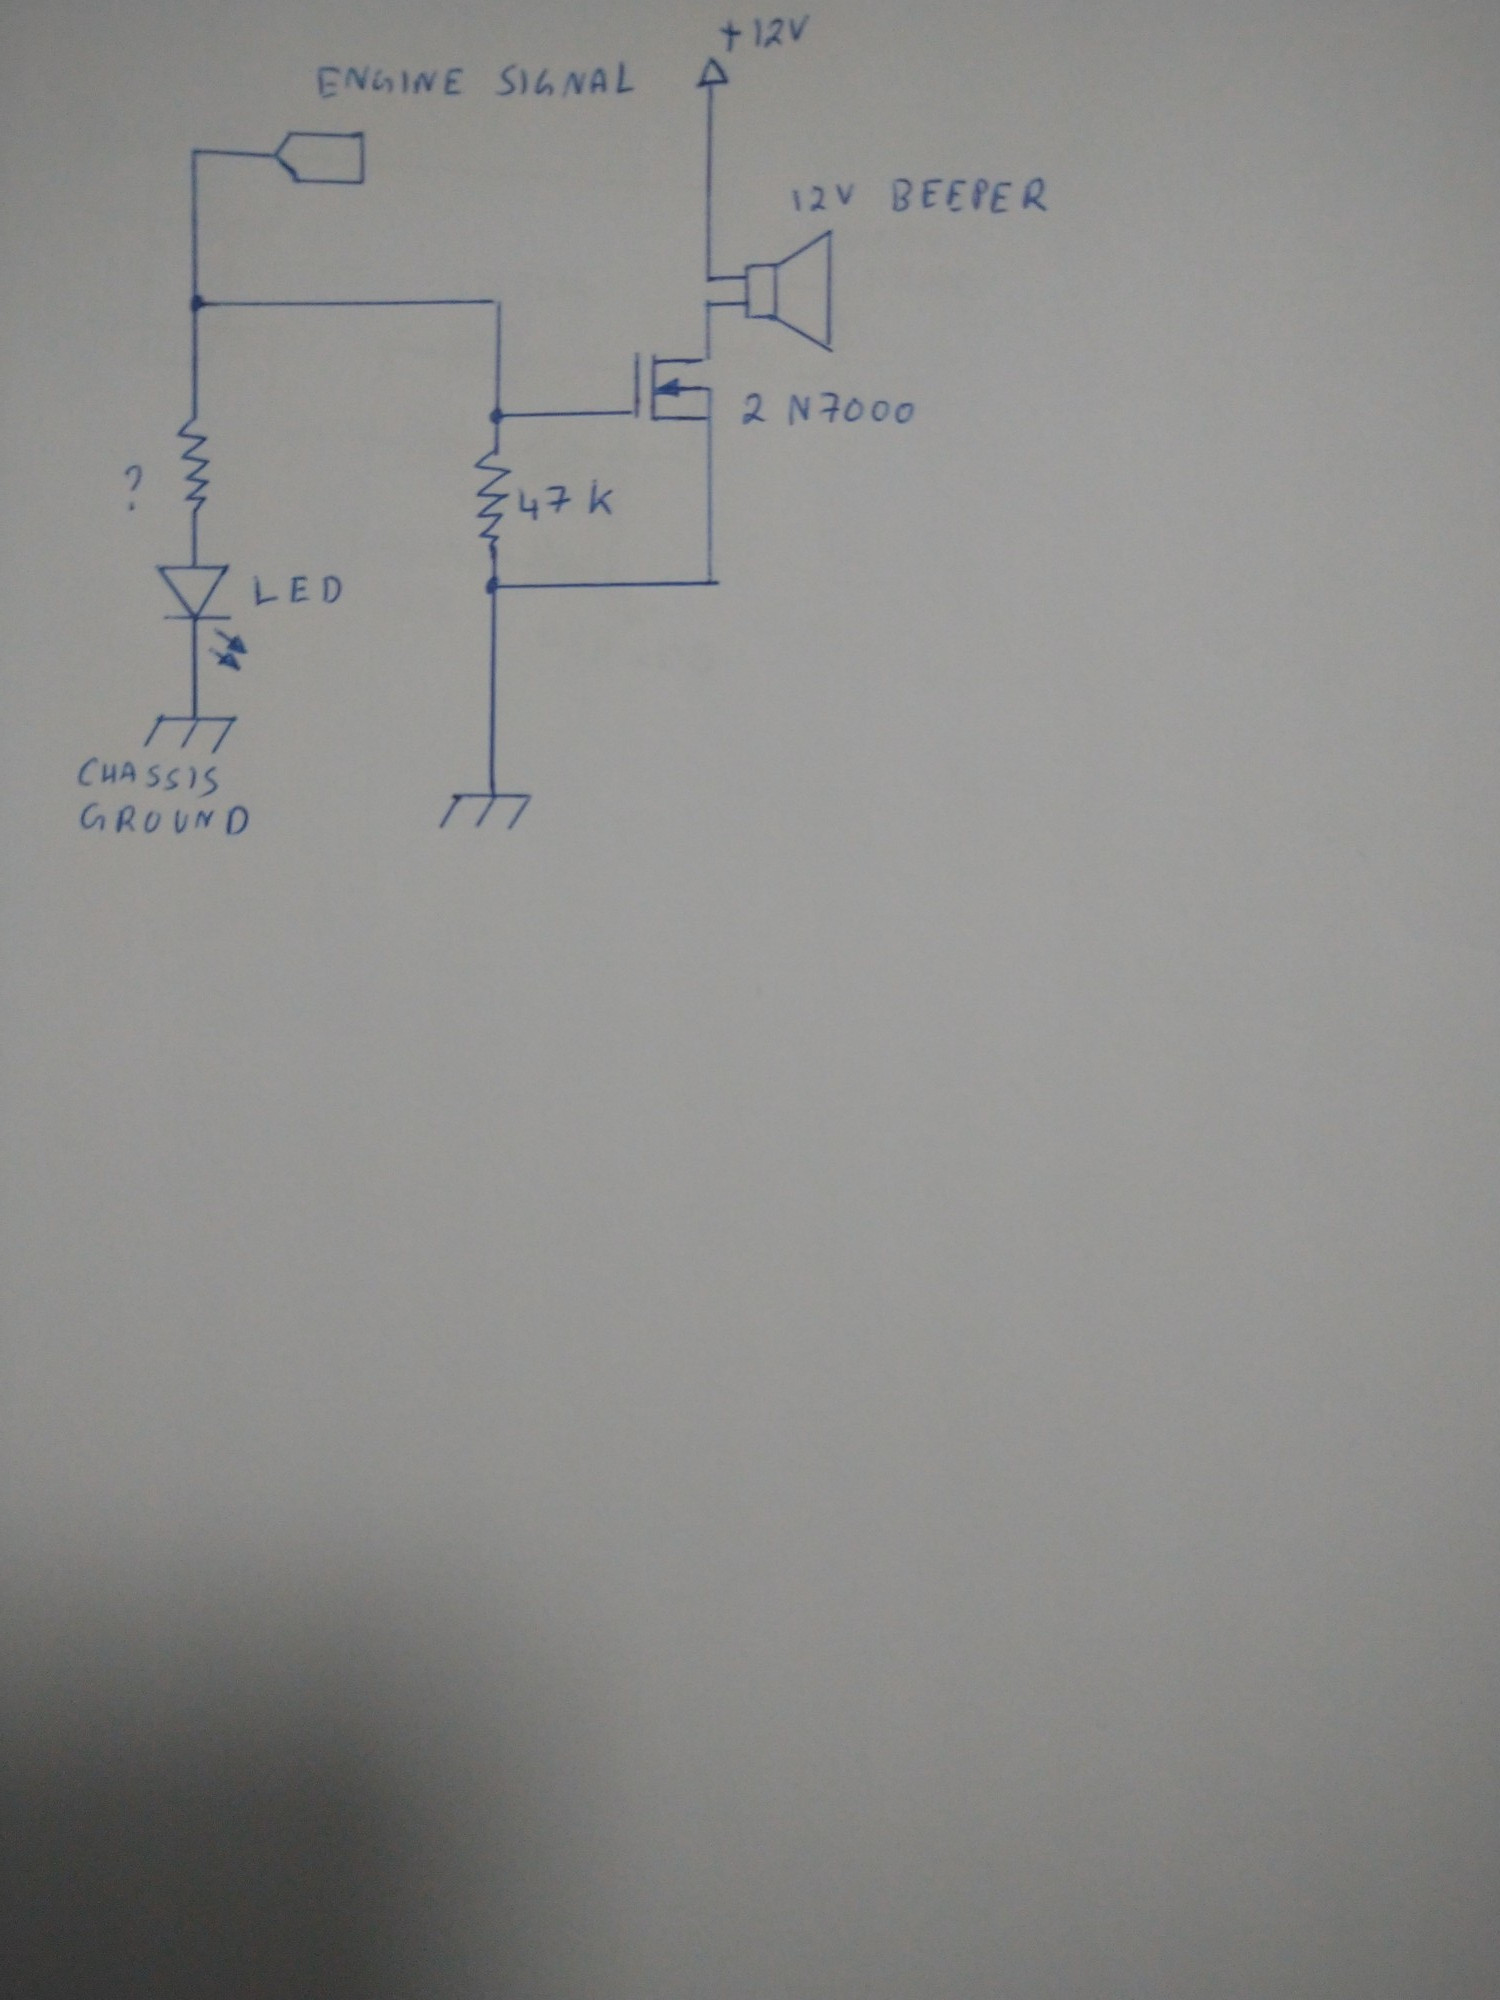diode.light_emitting: (153, 561, 254, 677)
gnd: (139, 712, 239, 762), (435, 787, 536, 835)
junction: (184, 288, 214, 321), (481, 570, 507, 602), (484, 402, 511, 430), (695, 569, 723, 595), (485, 291, 511, 313), (700, 265, 722, 288), (184, 143, 205, 165), (700, 294, 720, 317)
resistor: (172, 413, 214, 521), (473, 444, 514, 550)
speaker: (736, 227, 845, 361)
terminal: (268, 128, 373, 191), (692, 54, 733, 94)
text: (310, 57, 649, 106), (734, 387, 919, 433), (886, 173, 1056, 220), (77, 800, 254, 839), (71, 754, 224, 798), (515, 476, 619, 526), (244, 572, 355, 613), (715, 13, 816, 57), (786, 173, 862, 219), (120, 461, 150, 520)
transistor: (626, 346, 723, 430)
